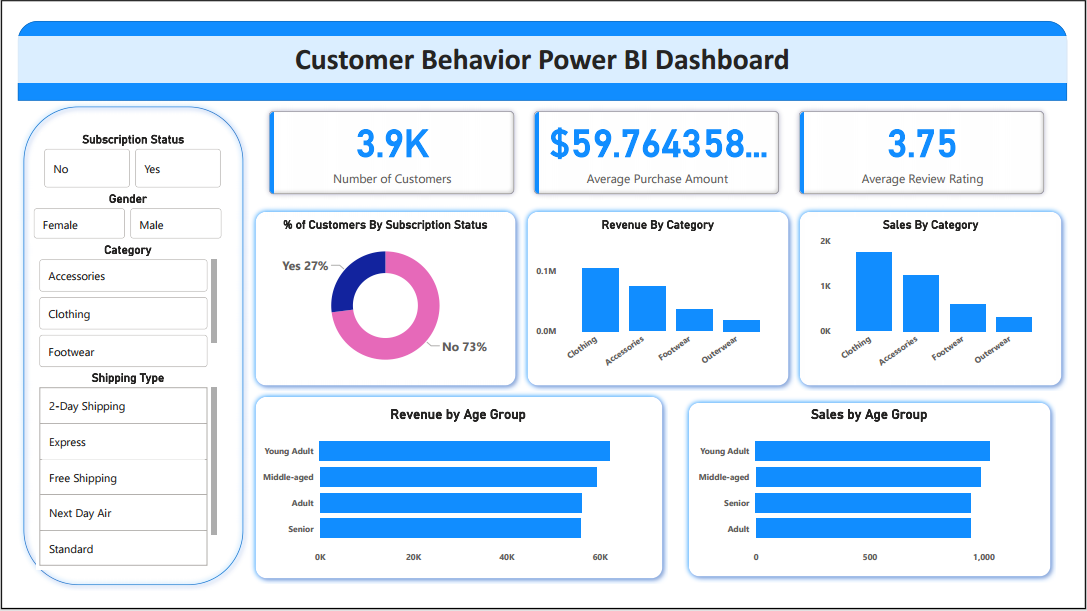

The page's visual inventory and layout, read from the dashboard file:
{"tool":"powerbi","page":{"name":"Page 1","canvas":[1500,820],"ordinal":0},"visuals":[{"type":"cardVisual","fields":{"Data":["public customer.Number of Customers","public customer.Average Purchase Amount","public customer.Average Review Rating"]},"box":[344.5,120.1,1139.8,149.6],"z":0},{"type":"shape","box":[0,5.9,1500,114.2],"z":1000},{"type":"textbox","box":[0,27.6,1500,66.9],"z":2000},{"type":"shape","box":[330.7,269.7,389.8,265.7],"z":3000},{"type":"donutChart","title":"% of Customers By Subscription Status","fields":{"Category":["public customer.subscription_status"],"Y":["CountNonNull(public customer.customer_id)"]},"box":[344.5,287.4,362.2,232.3],"z":4000},{"type":"shape","box":[330.7,535.4,598.4,275.6],"z":5000},{"type":"shape","box":[720.5,269.7,389.8,265.7],"z":6000},{"type":"shape","box":[1110.2,269.7,389.8,265.7],"z":7000},{"type":"clusteredColumnChart","title":"Revenue By Category","fields":{"Y":["Sum(public customer.purchase_amount)"],"Category":["public customer.category"]},"box":[736.2,287.4,358.3,232.3],"z":8000},{"type":"clusteredColumnChart","title":"Sales By Category","fields":{"Y":["CountNonNull(public customer.customer_id)"],"Category":["public customer.category"]},"box":[1126,287.4,358.3,232.3],"z":9000},{"type":"shape","box":[0,120.1,330.7,700.8],"z":10000},{"type":"advancedSlicerVisual","title":"Shipping Type","fields":{"Values":["public customer.shipping_type"]},"box":[25.6,505.9,263.8,285.4],"z":11000},{"type":"advancedSlicerVisual","title":"Subscription Status","fields":{"Values":["public customer.subscription_status"]},"box":[33.5,165.4,263.8,84.6],"z":12000},{"type":"advancedSlicerVisual","fields":{"Values":["public customer.gender"]},"box":[17.7,250,279.5,72.8],"z":13000},{"type":"advancedSlicerVisual","title":"Category","fields":{"Values":["public customer.category"]},"box":[25.6,322.8,263.8,183.1],"z":14000},{"type":"clusteredBarChart","title":"Revenue by Age Group","fields":{"Y":["Sum(public customer.purchase_amount)"],"Category":["public customer.age_group"]},"box":[344.5,557.1,570.9,234.3],"z":15000},{"type":"shape","box":[950.8,543.3,533.5,265.7],"z":16000},{"type":"clusteredBarChart","title":"Sales by Age Group","fields":{"Y":["CountNonNull(public customer.customer_id)"],"Category":["public customer.age_group"]},"box":[966.5,557.1,500,234.3],"z":16001}]}

Visuals, with their boxes in screenshot pixels (x1, y1, x2, y2), scaled from the page's 1500x820 canvas onto the 1087x611 screenshot:
cardVisual - public customer.Number of Customers x public customer.Average Purchase Amount: (250, 89, 1076, 201)
shape: (0, 4, 1086, 89)
textbox: (0, 21, 1086, 70)
shape: (240, 201, 522, 399)
"% of Customers By Subscription Status" donutChart: (250, 214, 512, 387)
shape: (240, 399, 673, 604)
shape: (522, 201, 805, 399)
shape: (805, 201, 1086, 399)
"Revenue By Category" clusteredColumnChart: (533, 214, 793, 387)
"Sales By Category" clusteredColumnChart: (816, 214, 1076, 387)
shape: (0, 89, 240, 610)
"Shipping Type" advancedSlicerVisual: (19, 377, 210, 590)
"Subscription Status" advancedSlicerVisual: (24, 123, 215, 186)
advancedSlicerVisual - public customer.gender: (13, 186, 215, 241)
"Category" advancedSlicerVisual: (19, 241, 210, 377)
"Revenue by Age Group" clusteredBarChart: (250, 415, 663, 590)
shape: (689, 405, 1076, 603)
"Sales by Age Group" clusteredBarChart: (700, 415, 1063, 590)
